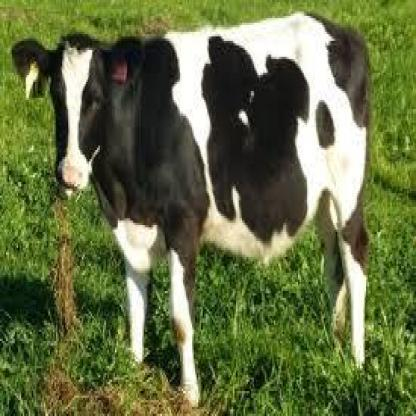cow: (11, 10, 372, 406)
